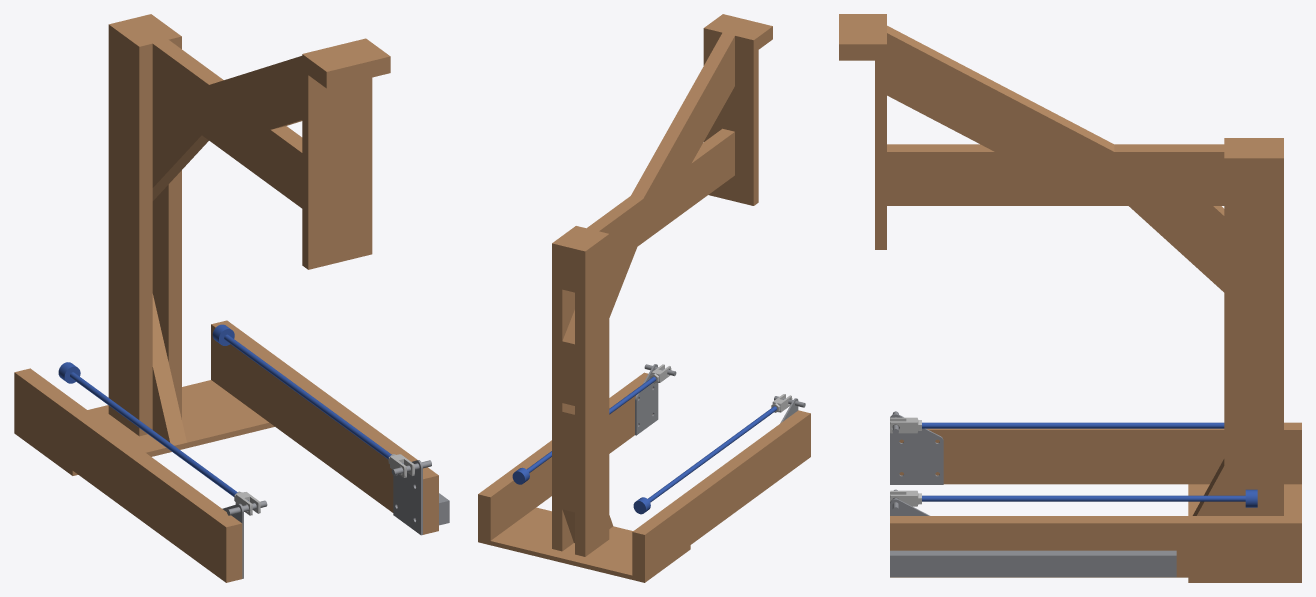
The picture shows the model from 3 angles, left to right: view 1: azimuth 30°, elevation 25°; view 2: azimuth 150°, elevation 25°; view 3: azimuth 270°, elevation 25°; orthographic projection. The views are drawn at different scales.
Visible parts, largest first — view 1: Drawer Side (×2), Puncher Upright (×2), Puncher Face, Puncher Bar, Drawer Bottom, Puncher Top Brace, A12120DP-Rod (×2), Puncher Back Top Brace, Puncher Back Bottom Brace, Puncher Lip, Clevis Mount; view 2: Puncher Upright (×2), Drawer Side (×2), Puncher Bar, Puncher Top Brace, Puncher Face, Drawer Bottom, Puncher Back Top Brace, A12120DP-Rod (×2), Puncher Back Bottom Brace, Clevis Mount, Puncher Lip; view 3: Drawer Side (×2), Puncher Upright, Puncher Bar, Puncher Top Brace, Drawer Slide Moving, A12120DP-Rod (×2), Puncher Back Top Brace, Clevis Mount, Puncher Face, Puncher Lip, Drawer Bottom, Puncher Back Bottom Brace.
Part boxes in pixels (left/top/right/bottom): Drawer Side (×2): left=14, top=320, right=438, bottom=582; Puncher Upright (×2): left=108, top=14, right=181, bottom=436; Puncher Face: left=302, top=38, right=372, bottom=269; Puncher Bar: left=122, top=17, right=302, bottom=208; Drawer Bottom: left=14, top=380, right=274, bottom=475; Puncher Top Brace: left=209, top=56, right=302, bottom=129; A12120DP-Rod (×2): left=58, top=324, right=402, bottom=500; Puncher Back Top Brace: left=152, top=103, right=208, bottom=200; Puncher Back Bottom Brace: left=152, top=294, right=186, bottom=445; Puncher Lip: left=308, top=43, right=390, bottom=88; Clevis Mount: left=393, top=460, right=422, bottom=535; Puncher Upright (×2): left=552, top=226, right=609, bottom=556; Drawer Side (×2): left=478, top=372, right=810, bottom=578; Puncher Bar: left=562, top=128, right=734, bottom=292; Puncher Top Brace: left=631, top=32, right=734, bottom=198; Puncher Face: left=703, top=24, right=758, bottom=205; Drawer Bottom: left=478, top=507, right=690, bottom=582; Puncher Back Top Brace: left=562, top=247, right=637, bottom=405; A12120DP-Rod (×2): left=512, top=376, right=776, bottom=514; Puncher Back Bottom Brace: left=562, top=412, right=613, bottom=542; Clevis Mount: left=635, top=364, right=658, bottom=435; Puncher Lip: left=709, top=14, right=772, bottom=49; Drawer Side (×2): left=890, top=422, right=1301, bottom=577; Puncher Upright: left=1224, top=152, right=1283, bottom=515; Puncher Bar: left=887, top=144, right=1283, bottom=205; Puncher Top Brace: left=887, top=25, right=1114, bottom=151; Drawer Slide Moving: left=890, top=550, right=1176, bottom=577; A12120DP-Rod (×2): left=922, top=422, right=1257, bottom=507; Puncher Back Top Brace: left=1129, top=206, right=1224, bottom=292; Clevis Mount: left=890, top=414, right=943, bottom=484; Puncher Face: left=875, top=14, right=886, bottom=249; Puncher Lip: left=839, top=14, right=874, bottom=60; Drawer Bottom: left=1188, top=484, right=1301, bottom=582; Puncher Back Bottom Brace: left=1192, top=459, right=1224, bottom=515.
Size of the model in its own units: 0.2667 by 0.5905 by 0.4921.
